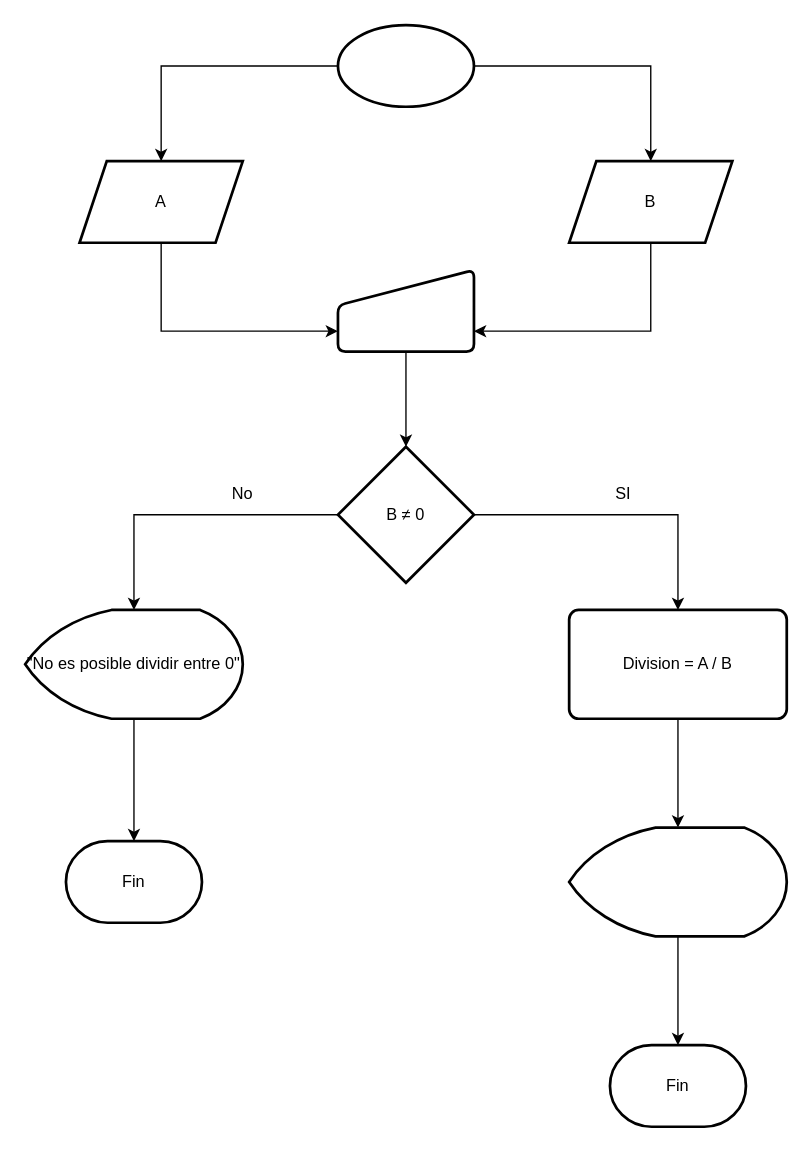
Some shapes in this 811 by 1151 pixel diagram are drawn without their labels. The centre of each missing label's shape, as x and y in pixels:
A y B: pixel 405 310
Division: pixel 677 881
Inicio: pixel 405 65
